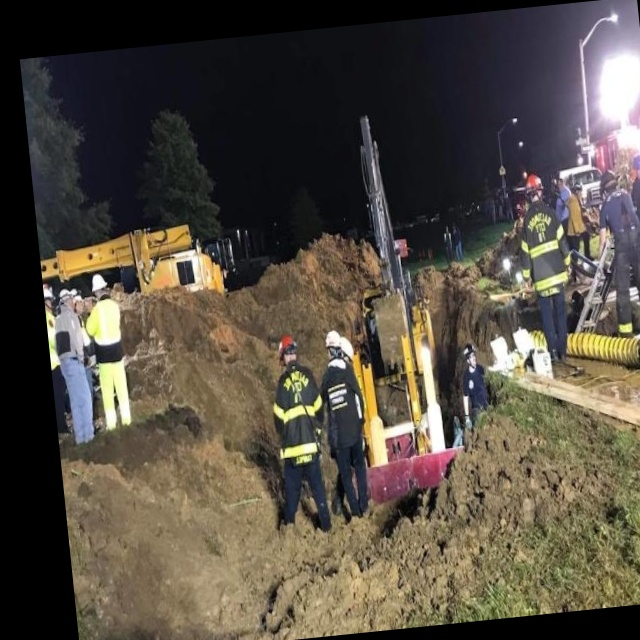Con_Casco: (275, 334, 297, 367), (90, 272, 107, 298)
Con_Chaleco: (87, 295, 125, 364)
